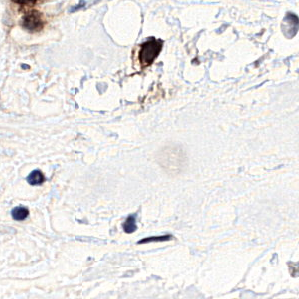Lymphocyte: (129, 35, 166, 73)
